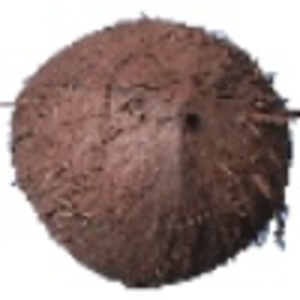coco: (1, 15, 300, 289)
